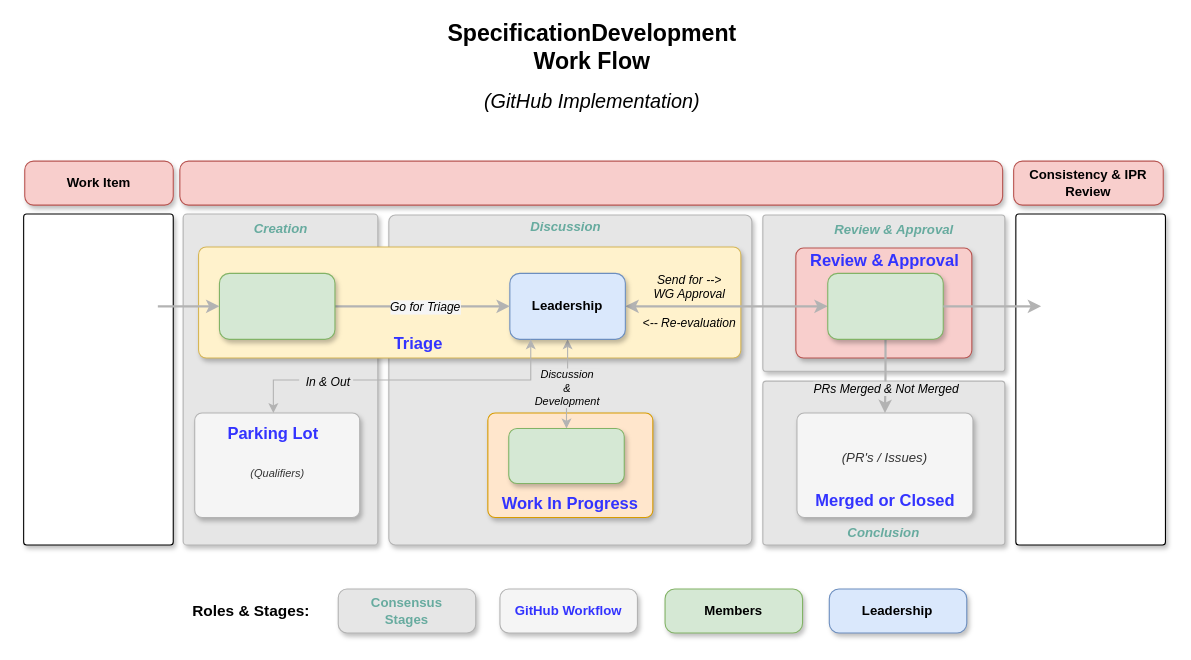
Some shapes in this 1191 by 660 pixel diagram are drawn without their labels. Here are the shapes that lost their labels. From the top down, the centre of each, then its label:
At point 591,184: "Specification Development".
At point 278,307: "WG Members Generate Issues | PRs".
At point 886,307: "WG Members Approval".
At point 567,457: "WG Members Discussion".
